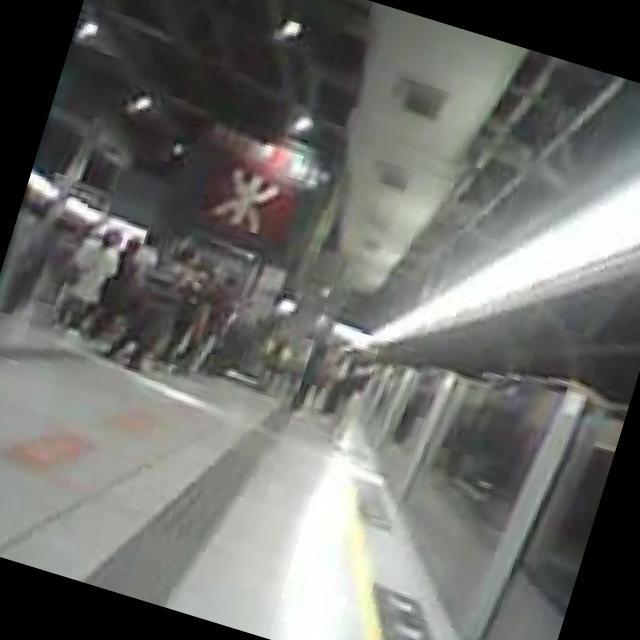person: (47, 218, 129, 344), (151, 256, 214, 372)
